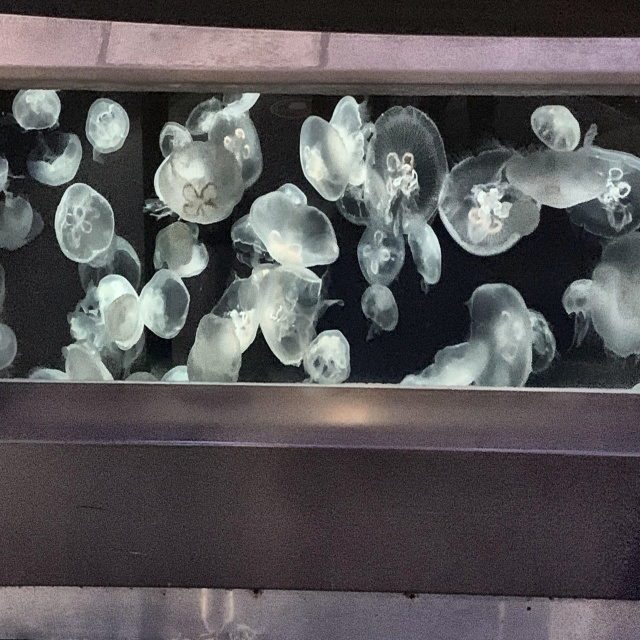jellyfish: (438, 148, 547, 263), (361, 95, 444, 226), (239, 179, 343, 275), (251, 257, 330, 371), (151, 139, 247, 231), (466, 275, 539, 388), (289, 98, 359, 212), (510, 139, 602, 222), (570, 131, 639, 240), (588, 228, 639, 364), (198, 98, 267, 188), (51, 177, 117, 266), (401, 330, 486, 398), (73, 232, 145, 306), (137, 263, 196, 345), (182, 311, 246, 386), (324, 91, 370, 191), (93, 269, 147, 351), (355, 216, 410, 289), (25, 129, 88, 192), (506, 303, 559, 375), (301, 324, 359, 386), (529, 97, 586, 159), (406, 212, 453, 287), (83, 94, 136, 160), (156, 206, 210, 270), (10, 86, 68, 141), (60, 334, 112, 385), (359, 279, 404, 337), (156, 117, 206, 164), (559, 272, 605, 323), (1, 193, 37, 256), (0, 323, 17, 371)
